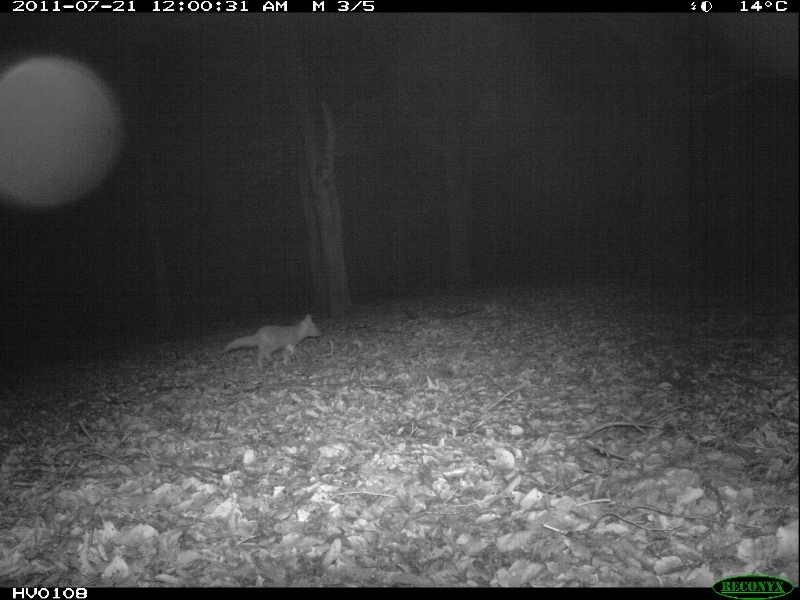fox: (227, 314, 325, 376)
